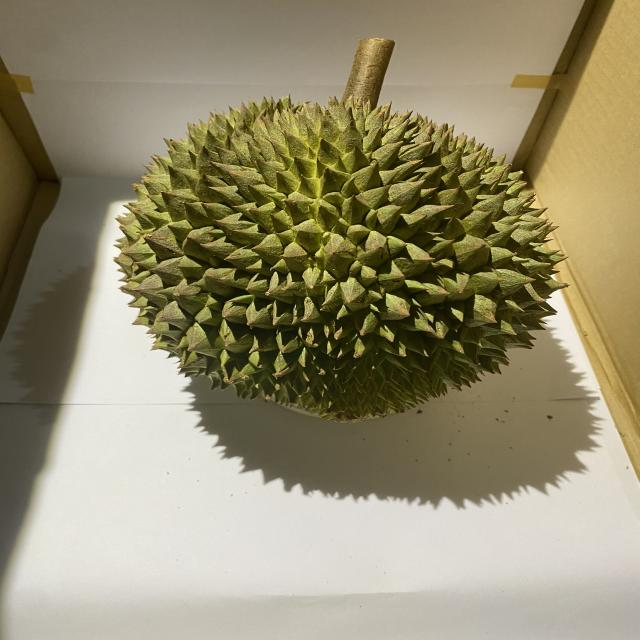immature: (111, 88, 572, 428)
